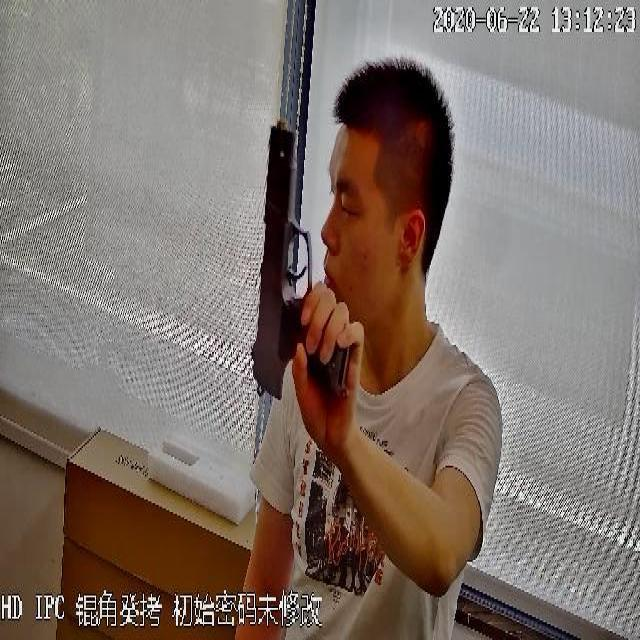pistol: (248, 110, 347, 414)
